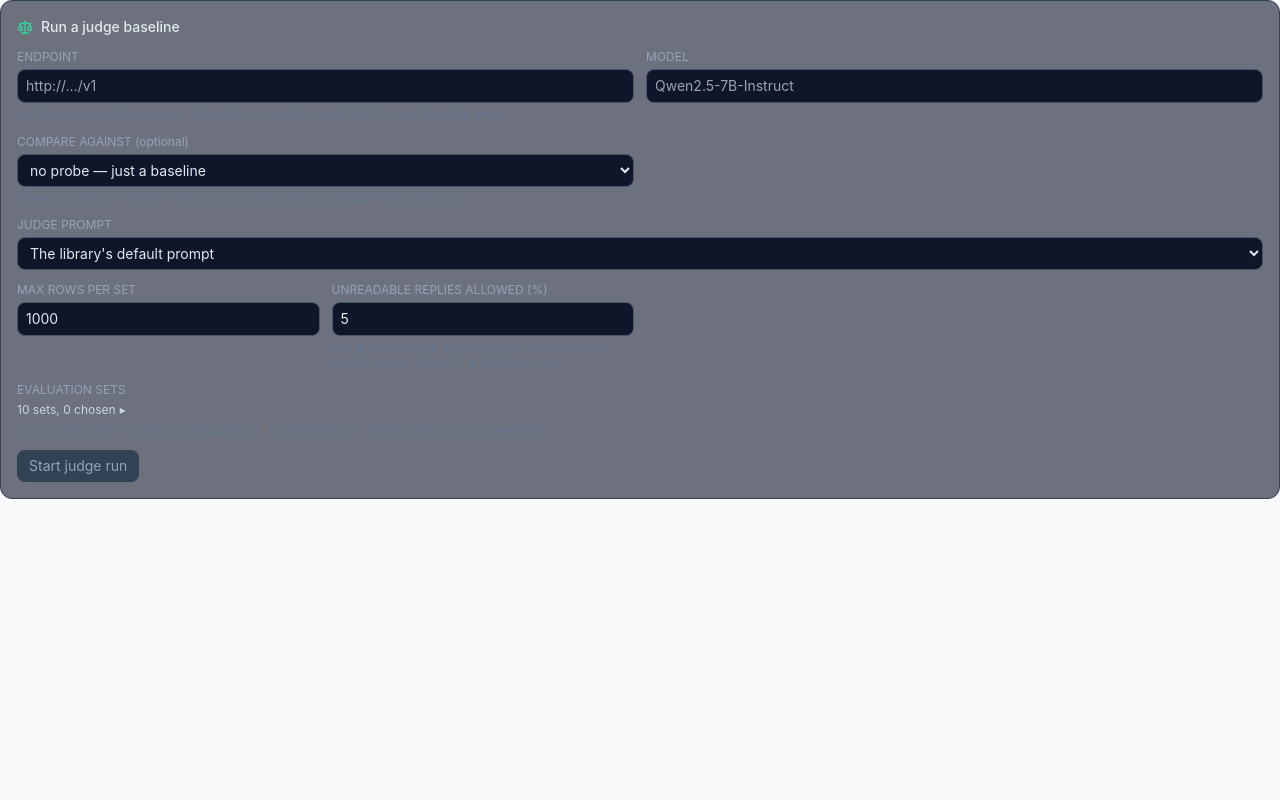
Test: set lists on the probe page use the shared SetList › the judge run form's evaluation sets (JudgeRunForm)
Click the button "10 sets, 0 chosen ▸" at (71, 410), box [17,402,126,418]
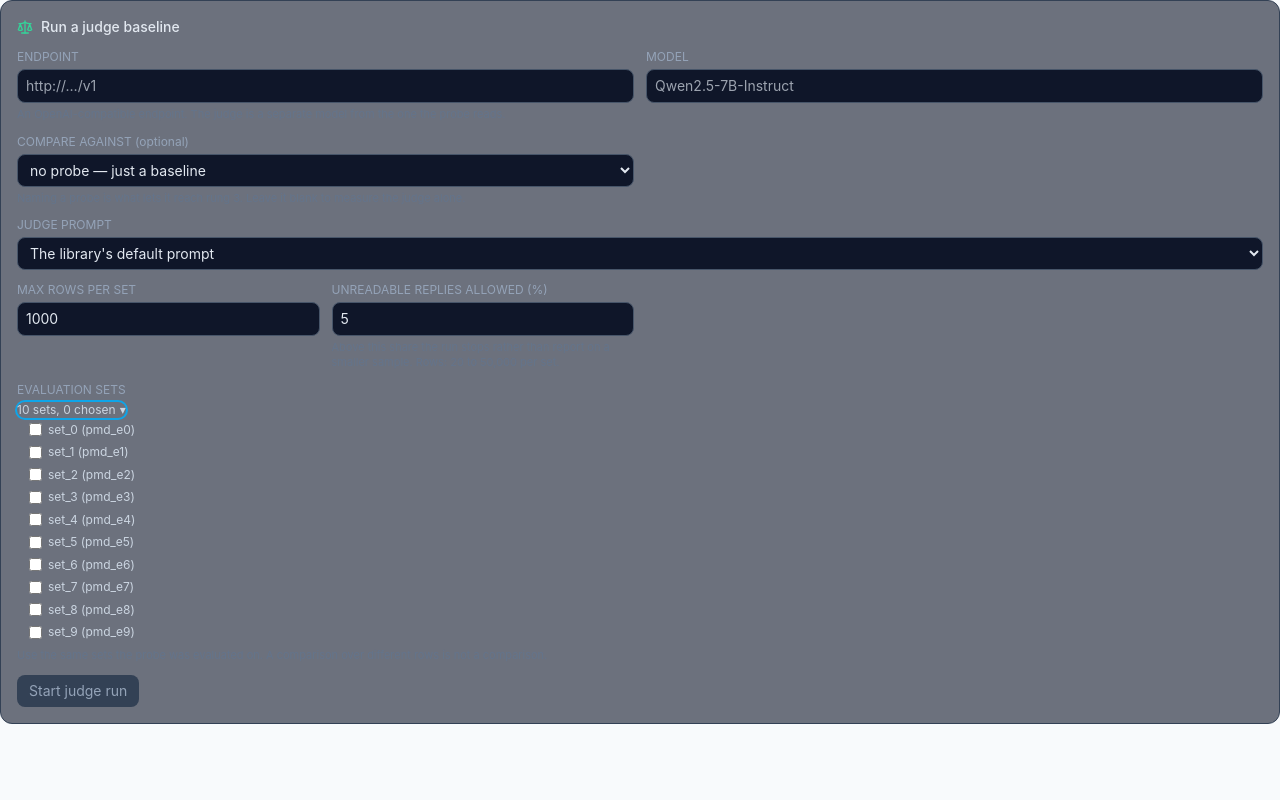
Now the number of list items is 10
Now the checkbox with test id "judge-set-pmd_e0" is shown, box [29,423,42,436]
